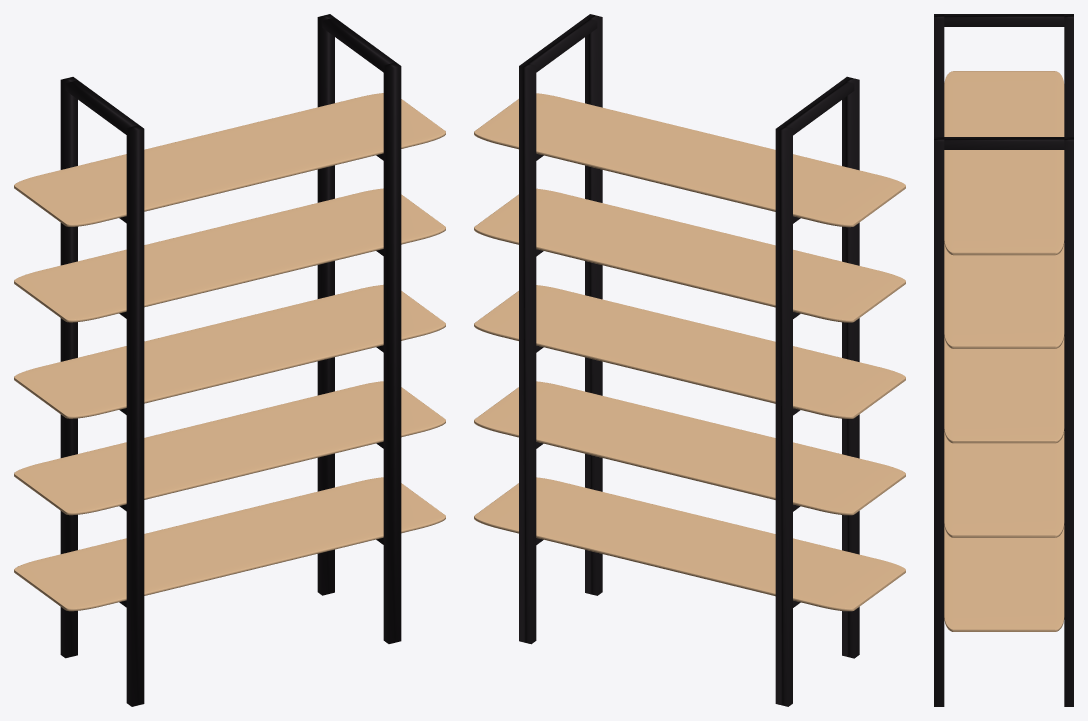
The model's file is стелажыф.fbx.
The picture shows the model from 3 angles, left to right: view 1: azimuth 30°, elevation 25°; view 2: azimuth 150°, elevation 25°; view 3: azimuth 270°, elevation 25°; orthographic projection.
Visible parts, largest first — view 1: Cube.003; view 2: Cube.003; view 3: Cube.003.
Part boxes in pixels (x1=…): Cube.003: x1=14, y1=14, x2=445, y2=706; Cube.003: x1=474, y1=14, x2=905, y2=706; Cube.003: x1=934, y1=14, x2=1073, y2=706.
Size of the model in its own units: 827 by 1197 by 269.
